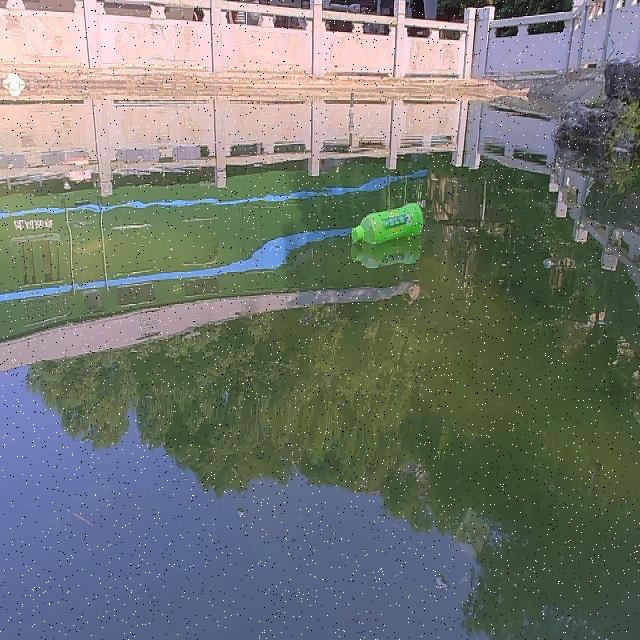Bottle: (347, 199, 426, 245)
